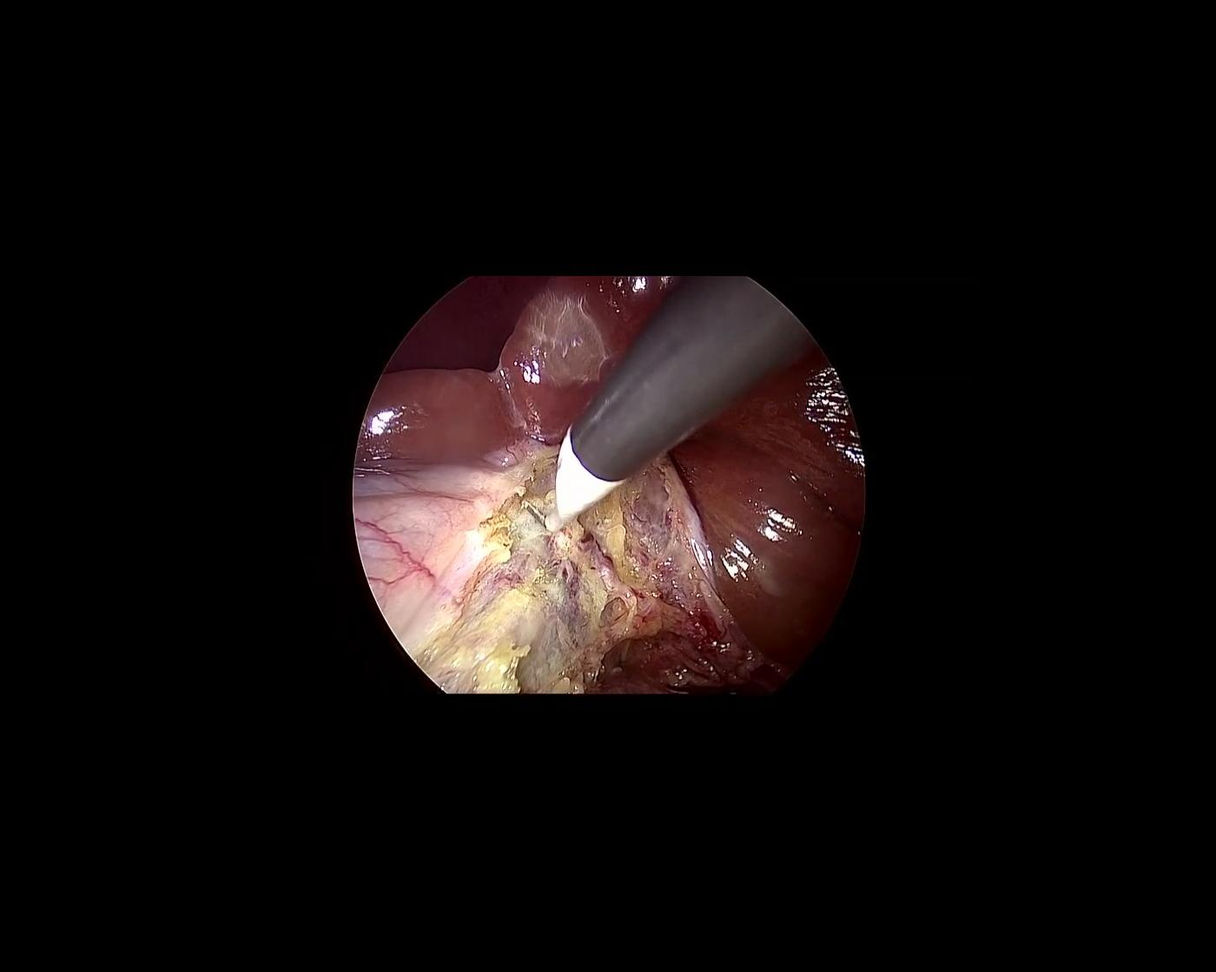Cautery: (467, 238, 817, 541)
Gallbladder: (350, 438, 636, 706)
Liver: (661, 345, 906, 691), (333, 259, 701, 473)
